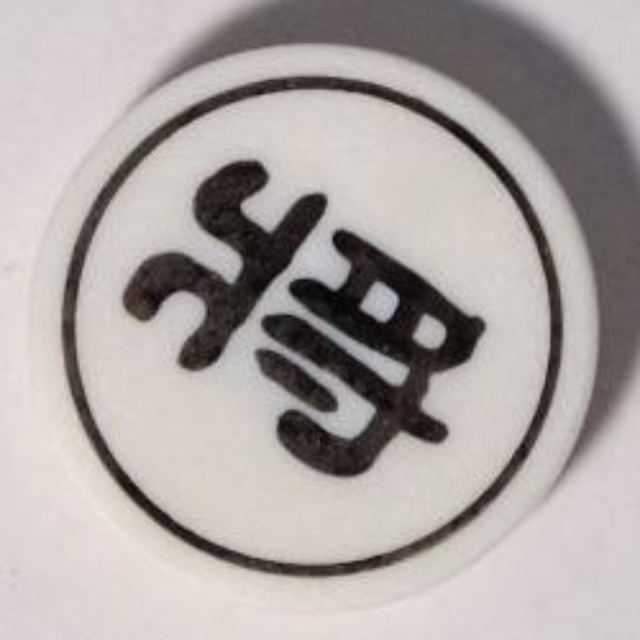black_tuong: (26, 42, 609, 604)
